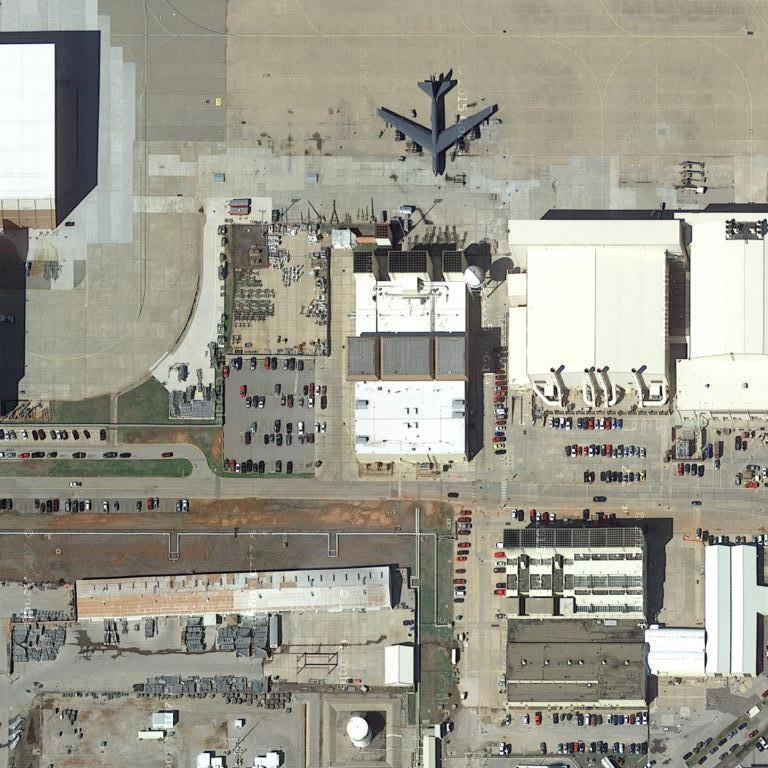B-52: (376, 69, 502, 177)
